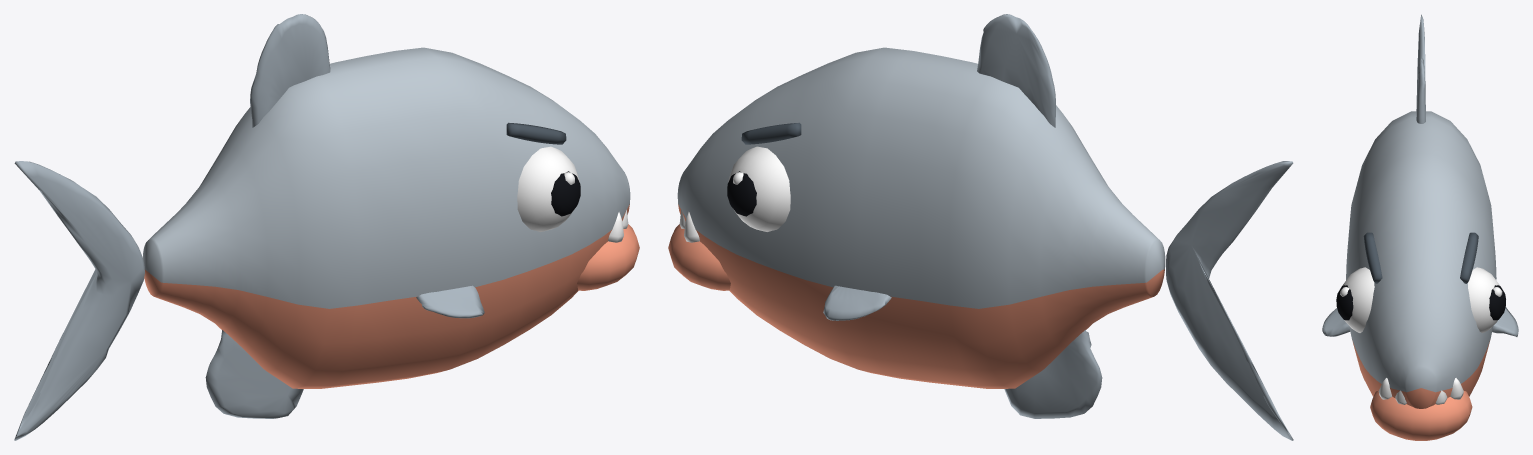
Rendered from fish_piranha.glb.
The picture shows the model from 3 angles, left to right: view 1: azimuth 30°, elevation 25°; view 2: azimuth 150°, elevation 25°; view 3: azimuth 270°, elevation 25°; orthographic projection. The views are drawn at different scales.
Visible parts, largest first — view 1: Fish, Tail, FinR; view 2: Fish, Tail, FinL; view 3: Fish, FinR, FinL, Tail.
Boxes of the visible parts, left/top/right/bottom form: Fish: left=142, top=14, right=639, bottom=418; Tail: left=14, top=161, right=144, bottom=440; FinR: left=416, top=285, right=484, bottom=318; Fish: left=668, top=14, right=1165, bottom=418; Tail: left=1166, top=161, right=1293, bottom=440; FinL: left=823, top=285, right=891, bottom=320; Fish: left=1336, top=58, right=1505, bottom=440; FinR: left=1322, top=308, right=1350, bottom=336; FinL: left=1492, top=306, right=1518, bottom=336; Tail: left=1416, top=14, right=1425, bottom=110.
Size of the model in its own units: 1.87 by 1.15 by 0.6518.
